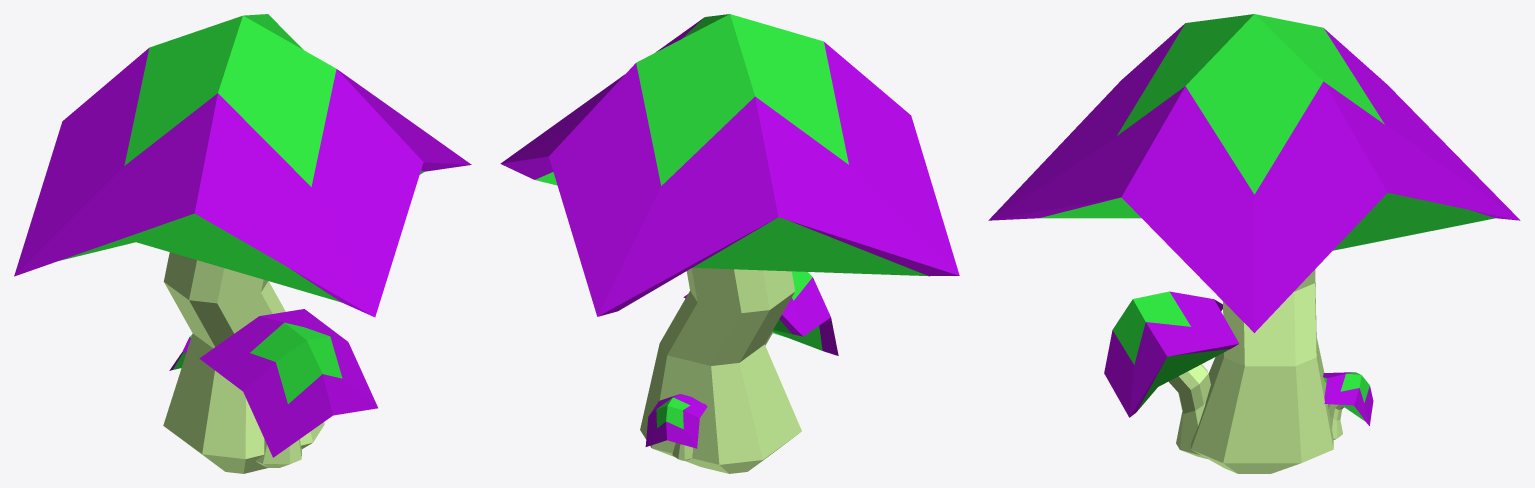
Rendered from Mushroom.fbx.
The picture shows the model from 3 angles, left to right: view 1: azimuth 30°, elevation 25°; view 2: azimuth 150°, elevation 25°; view 3: azimuth 270°, elevation 25°; orthographic projection.
Parts seen in each view (by area): view 1: Cone, Cone.001; view 2: Cone, Cone.001, Cone.002; view 3: Cone, Cone.001, Cone.002.
Boxes of the visible parts, x1,y1,x2,y2 form: Cone: (14, 14, 471, 473); Cone.001: (199, 309, 377, 467); Cone: (500, 14, 959, 473); Cone.001: (683, 271, 838, 355); Cone.002: (645, 394, 707, 460); Cone: (988, 14, 1520, 473); Cone.001: (1104, 291, 1239, 458); Cone.002: (1323, 372, 1373, 439).
Bounding box in the file's own units: 40 × 37.06 × 40.
